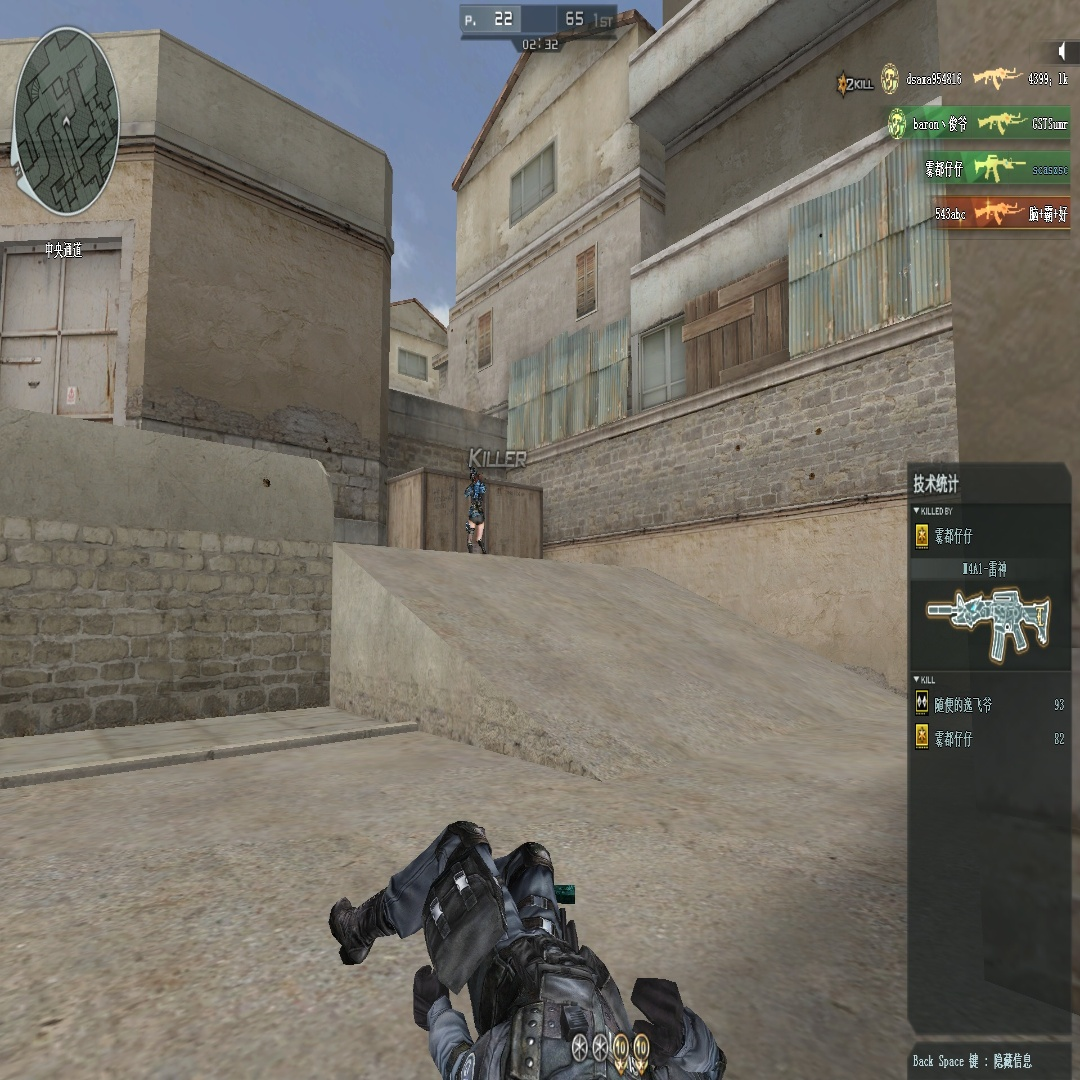p: (465, 452, 487, 553)
